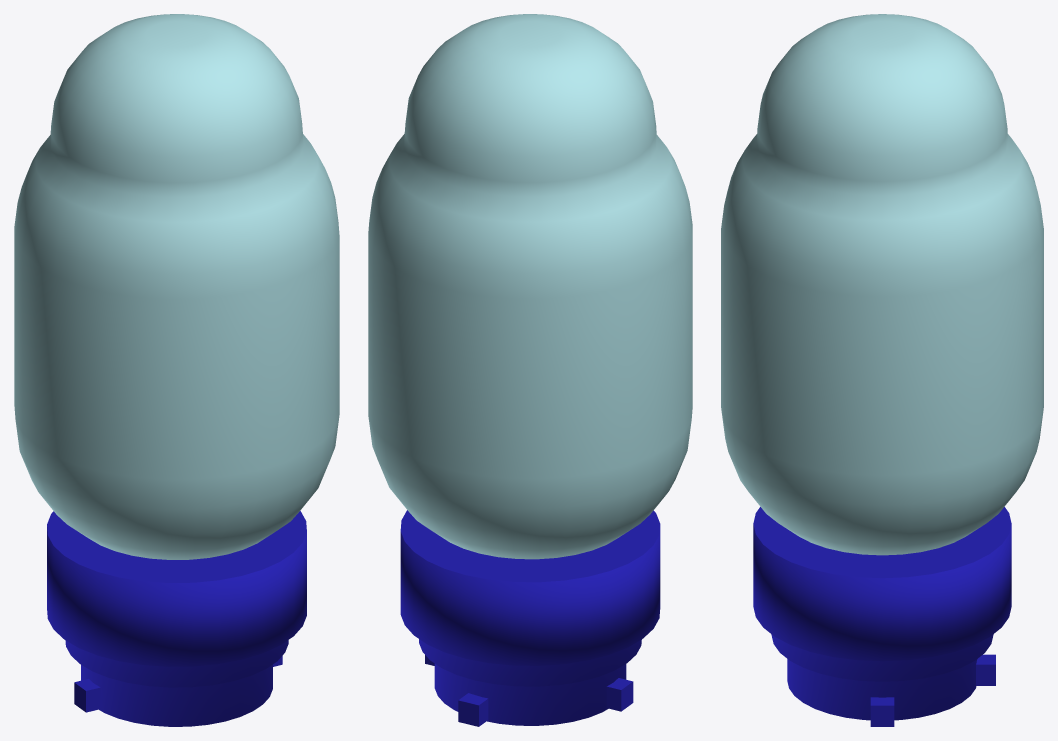
File: 1930_vacuum_tube.fbx
3 views of the same model, side by side, from view 1: azimuth 30°, elevation 25°; view 2: azimuth 150°, elevation 25°; view 3: azimuth 270°, elevation 25° (orthographic).
Visible parts, largest first — view 1: 1930_vacuum_tube; view 2: 1930_vacuum_tube; view 3: 1930_vacuum_tube.
Boxes of the visible parts, bbox=[...] form: 1930_vacuum_tube: bbox=[14, 14, 339, 726]; 1930_vacuum_tube: bbox=[368, 14, 692, 726]; 1930_vacuum_tube: bbox=[721, 14, 1043, 726].
Bounding box in the file's own units: 240 × 530 × 240.
